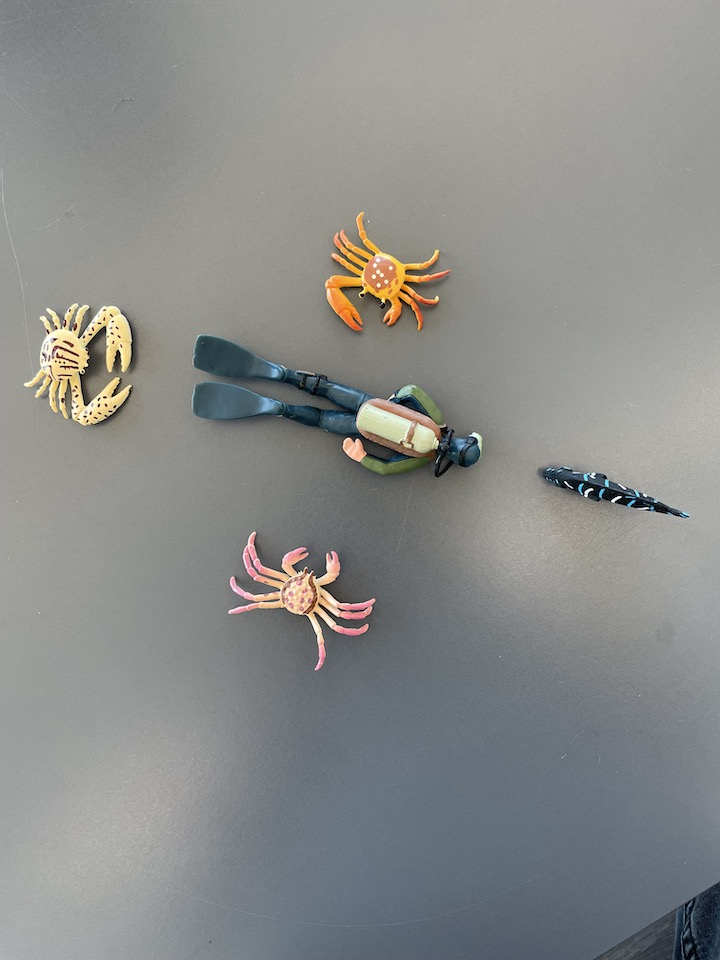crab: (224, 528, 375, 677), (319, 209, 456, 343), (21, 304, 134, 429)
diver: (187, 331, 487, 494)
fish: (533, 460, 694, 527)
